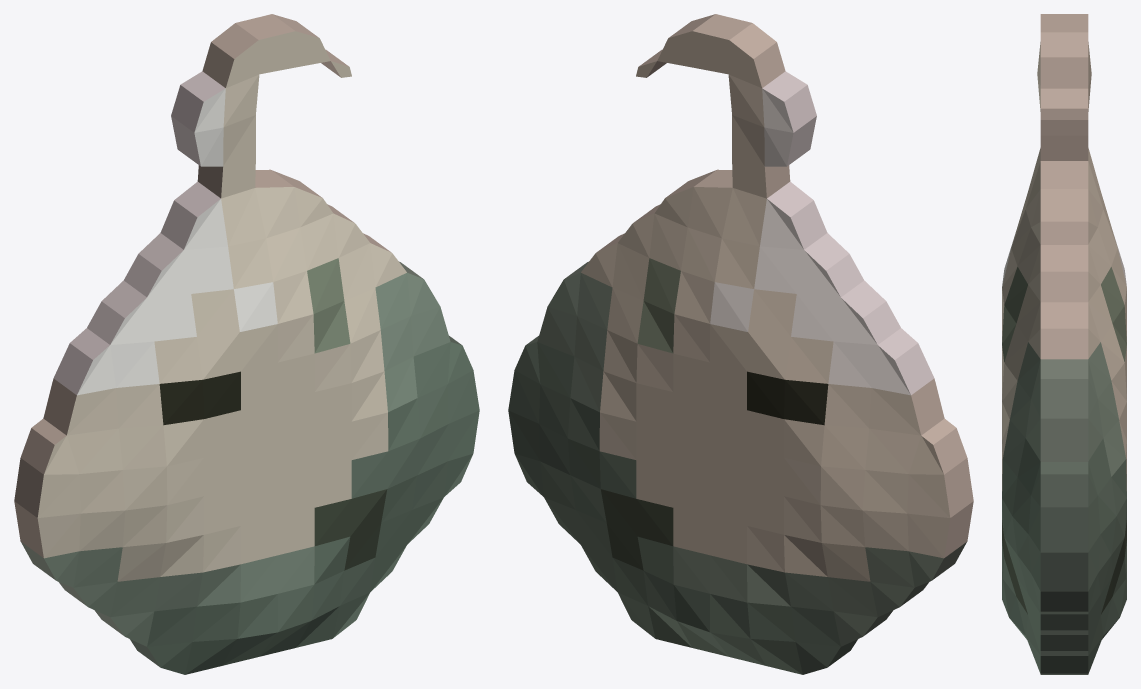
The model's file is spider_egg_sac.glb.
3 renders of one model, left to right at view 1: azimuth 30°, elevation 25°; view 2: azimuth 150°, elevation 25°; view 3: azimuth 270°, elevation 25°, orthographic.
Visible parts, largest first — view 1: spider_egg_sac; view 2: spider_egg_sac; view 3: spider_egg_sac.
Part boxes in pixels (x1,y1,x2,y2): spider_egg_sac: [14, 14, 479, 674]; spider_egg_sac: [508, 14, 973, 674]; spider_egg_sac: [1002, 14, 1126, 674].
Bounding box in the file's own units: 0.75 × 1 × 0.1813.
Materials: 1 (1 with a texture image).
